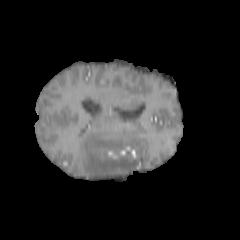glioma: (77, 129, 137, 177)
